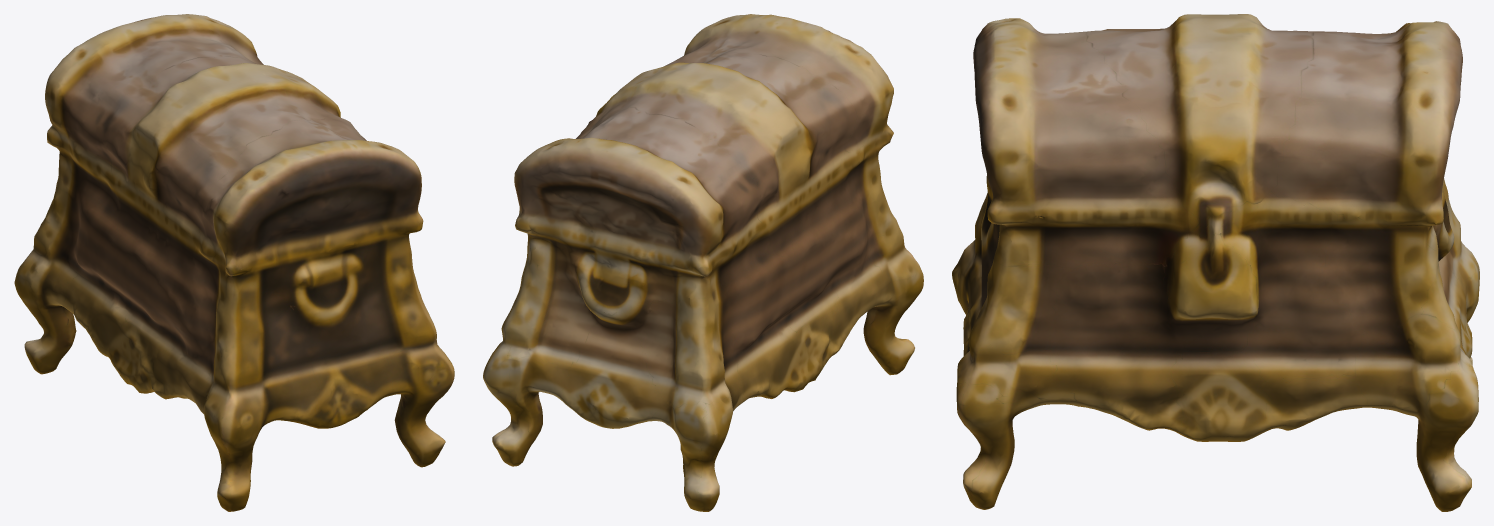
Rendered from stylized_chest_0708021449_.fbx.
3 views of the same model, side by side, from view 1: azimuth 30°, elevation 25°; view 2: azimuth 150°, elevation 25°; view 3: azimuth 270°, elevation 25° (orthographic). The views are drawn at different scales.
Visible parts, largest first — view 1: Mesh_0.005; view 2: Mesh_0.005; view 3: Mesh_0.005.
Boxes of the visible parts, x1,y1,x2,y2 form: Mesh_0.005: [14, 14, 454, 511]; Mesh_0.005: [483, 14, 923, 511]; Mesh_0.005: [952, 14, 1479, 511].
Size of the model in its own units: 75.78 by 105 by 120.
1 material, 1 textured.
